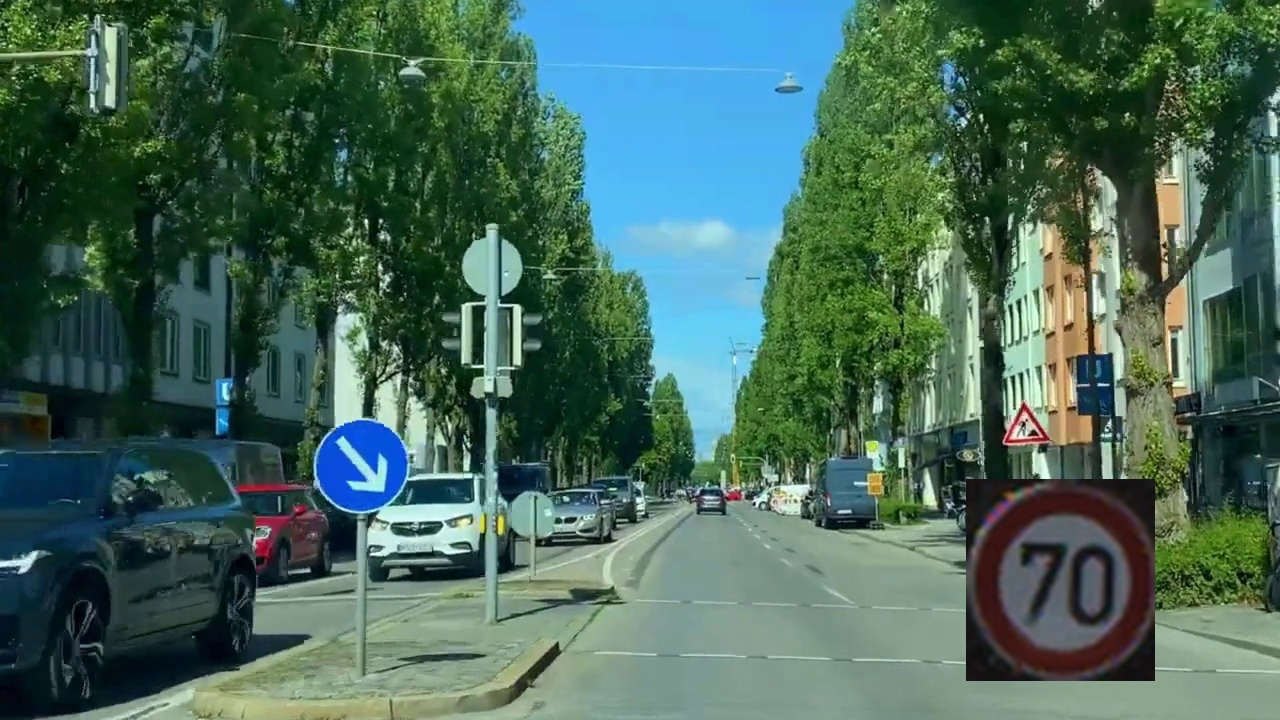Speed 70: (966, 479, 1155, 681)
